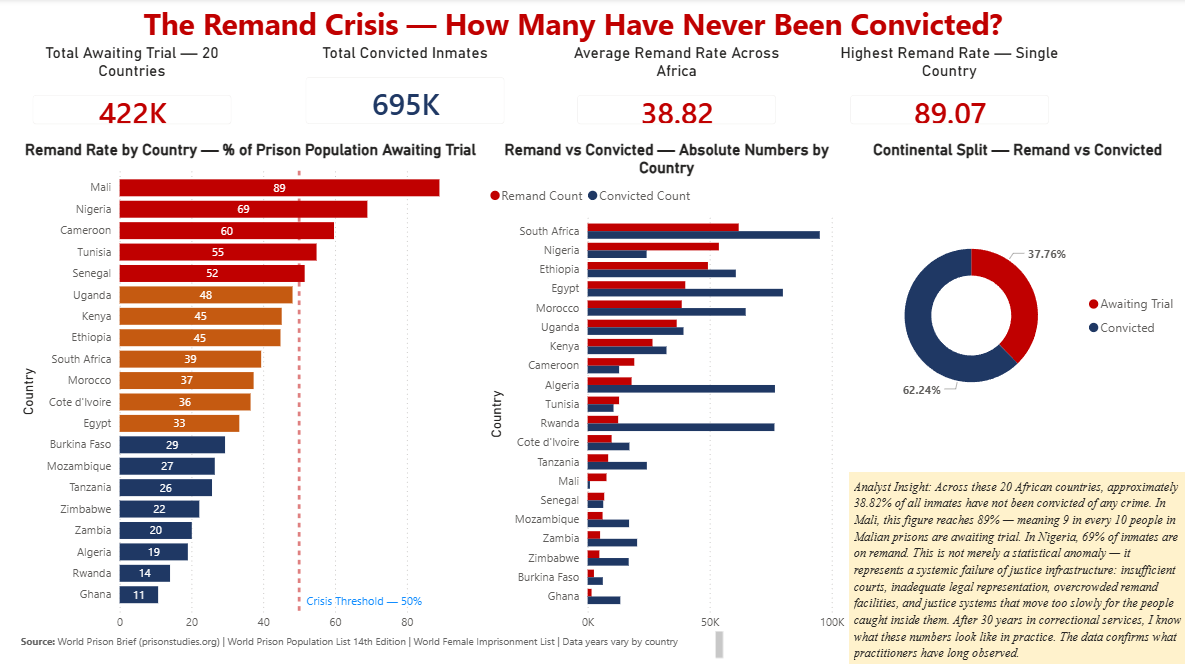

Layout of this report page (visuals, bound fields, positions):
{"tool":"powerbi","page":{"name":"The Remand Crisis","canvas":[1280,720],"ordinal":2},"visuals":[{"type":"textbox","box":[9.7,0,1217.7,72.9],"z":0},{"type":"cardVisual","title":"Total Awaiting Trial — 20 Countries","fields":{"Data":["Sum(Main Analysis Table.Remand Count)"]},"box":[17.8,48.6,249.4,105.2],"z":1000},{"type":"cardVisual","title":"Total Convicted Inmates","fields":{"Data":["Sum(Main Analysis Table.Convicted Count)"]},"box":[312,48.6,249.4,105.2],"z":2000},{"type":"cardVisual","title":"Average Remand Rate Across Africa","fields":{"Data":["Data Availability Matrix.Avg Remand Rate"]},"box":[606.1,48.6,249.4,105.2],"z":3000},{"type":"cardVisual","title":"Highest Remand Rate — Single Country","fields":{"Data":["Max(Main Analysis Table.Remand %)"]},"box":[900.3,48.6,249.4,105.2],"z":4000},{"type":"clusteredBarChart","title":"Remand Rate by Country — % of Prison Population Awaiting Trial","fields":{"Category":["Main Analysis Table.Country"],"Y":["Sum(Main Analysis Table.Remand %)"]},"box":[17.8,153.8,505.2,537.6],"z":5000},{"type":"clusteredBarChart","title":"Remand vs Convicted — Absolute Numbers by Country","fields":{"Category":["Main Analysis Table.Country"],"Y":["Sum(Main Analysis Table.Remand Count)","Sum(Main Analysis Table.Convicted Count)"]},"box":[523,153.8,393.5,537.6],"z":6000},{"type":"donutChart","title":"Continental Split — Remand vs Convicted","fields":{"Y":["Sum(Main Analysis Table.Remand Count)","Sum(Main Analysis Table.Convicted Count)"]},"box":[916.5,153.8,364.3,357.8],"z":7000},{"type":"textbox","box":[916.5,511.7,364.3,208.9],"z":8000},{"type":"textbox","box":[17.8,678.5,767.5,42.1],"z":9000}]}

Visuals, with their boxes in screenshot pixels (x1, y1, x2, y2), scaled from the page's 1280x720 canvas onto the 1185x664 screenshot:
textbox: 9:0:1136:67
"Total Awaiting Trial — 20 Countries" cardVisual: 16:45:247:142
"Total Convicted Inmates" cardVisual: 289:45:520:142
"Average Remand Rate Across Africa" cardVisual: 561:45:792:142
"Highest Remand Rate — Single Country" cardVisual: 833:45:1064:142
"Remand Rate by Country — % of Prison Population Awaiting Trial" clusteredBarChart: 16:142:484:638
"Remand vs Convicted — Absolute Numbers by Country" clusteredBarChart: 484:142:848:638
"Continental Split — Remand vs Convicted" donutChart: 848:142:1184:472
textbox: 848:472:1184:663
textbox: 16:626:727:663
